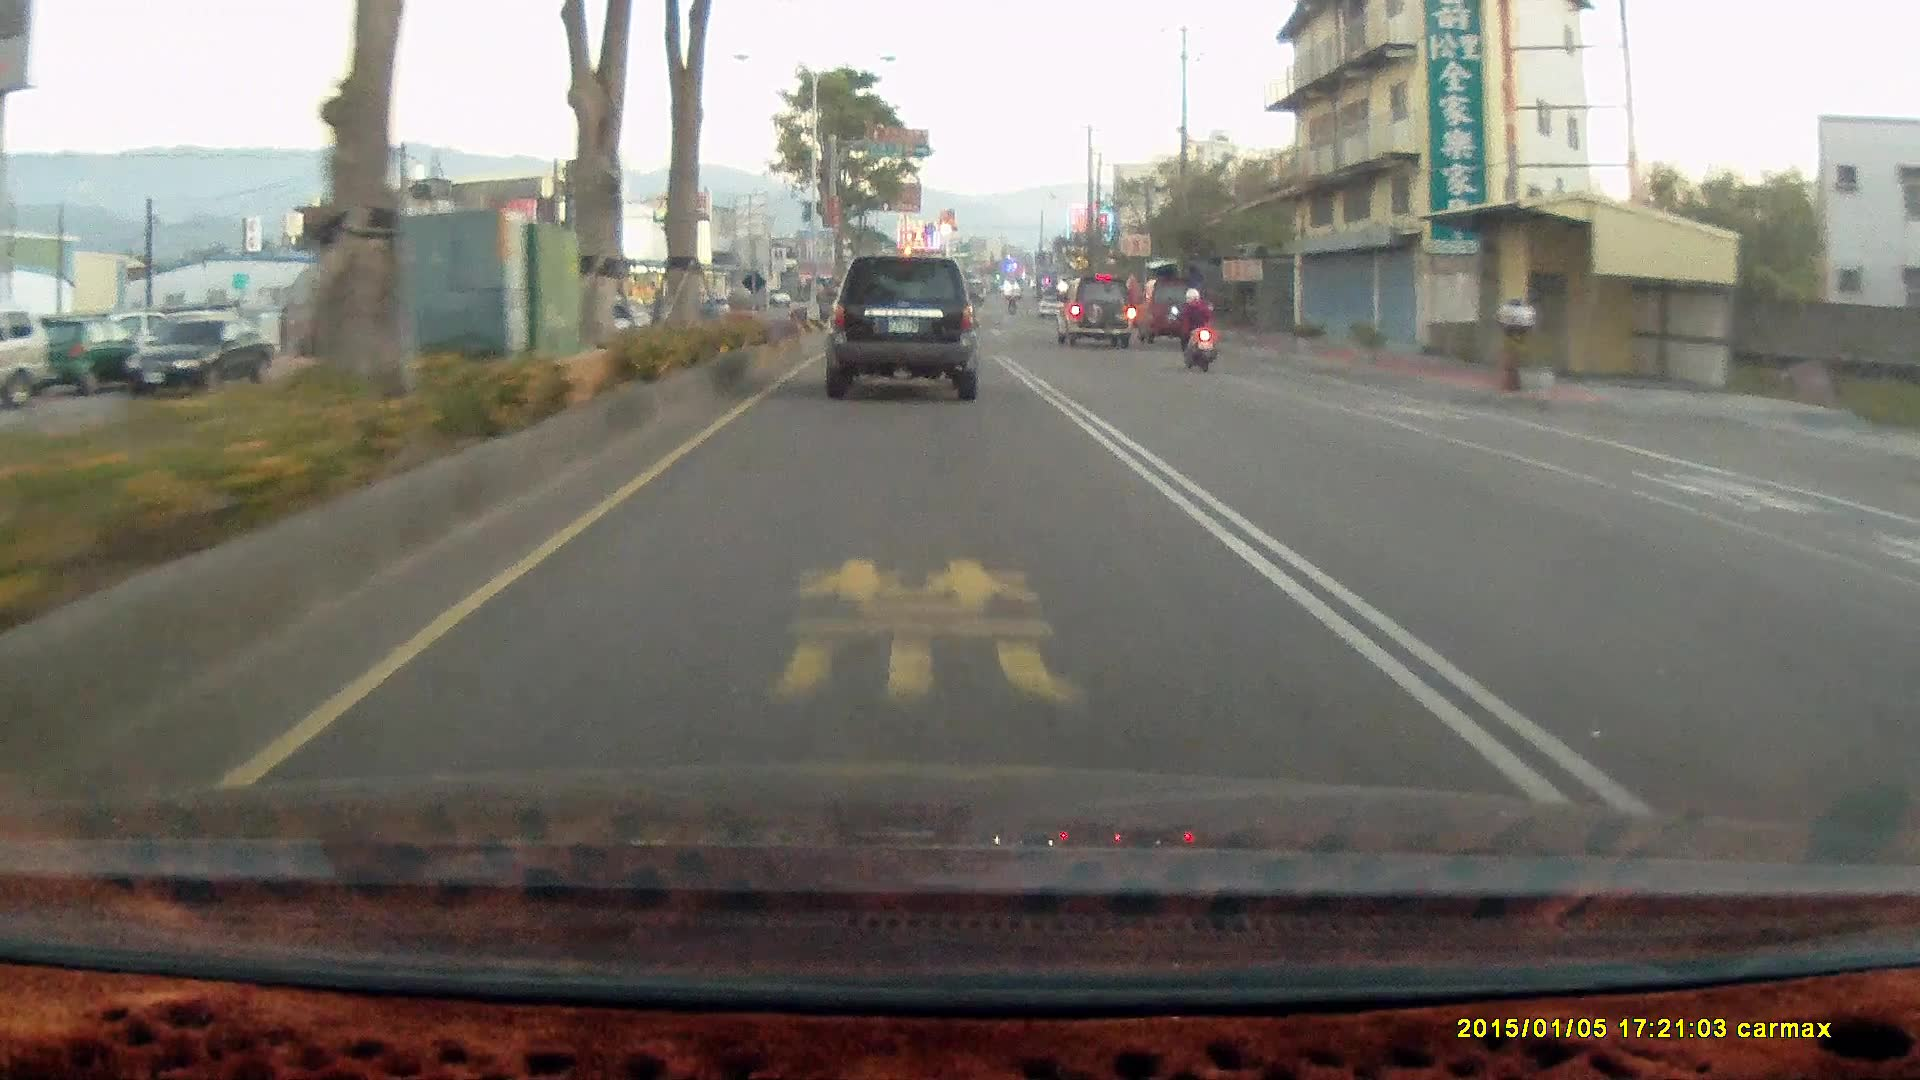rider: (1166, 280, 1224, 378), (1167, 286, 1216, 372)
vehicle: (826, 256, 989, 398), (820, 254, 979, 398), (119, 314, 272, 398), (127, 313, 270, 399), (1062, 276, 1146, 350), (1053, 274, 1136, 346), (1, 305, 56, 407), (1139, 275, 1206, 348), (1136, 274, 1203, 340)
